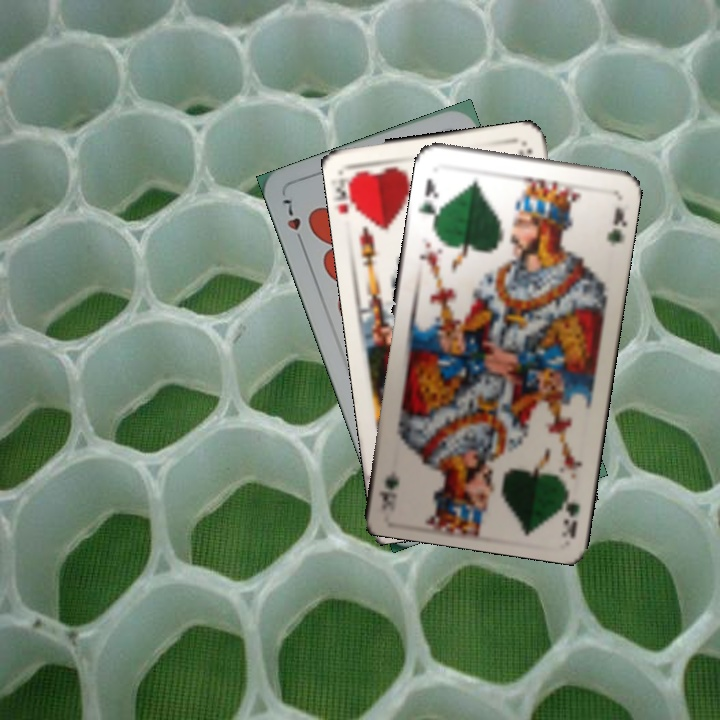GK: (557, 477, 583, 539), (414, 175, 443, 224)
H7: (278, 195, 308, 250)
HK: (332, 169, 363, 220)
